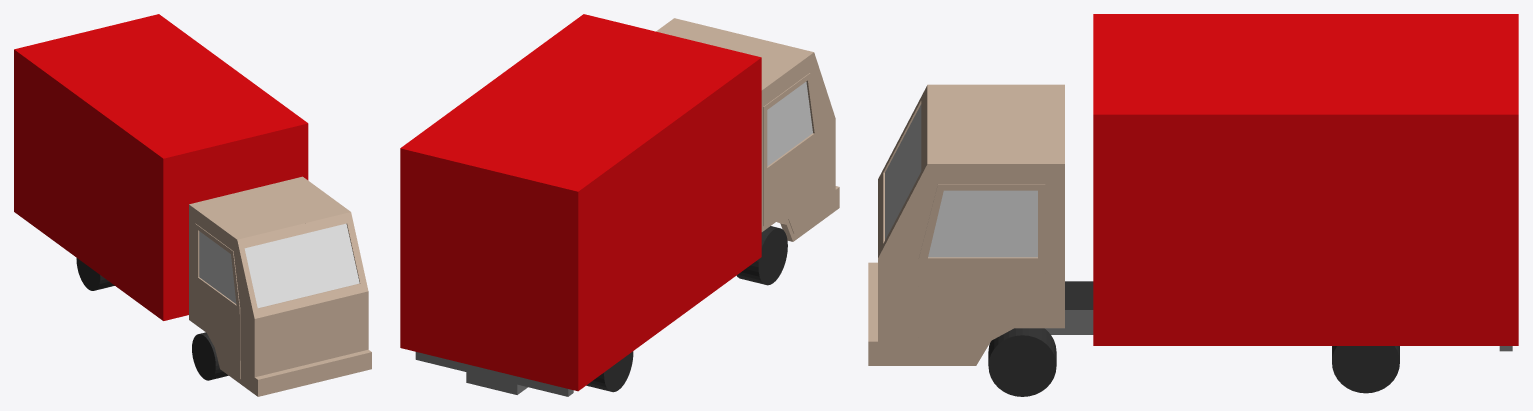
Rendered from truck_model.fbx.
The picture shows the model from 3 angles, left to right: view 1: azimuth 30°, elevation 25°; view 2: azimuth 150°, elevation 25°; view 3: azimuth 270°, elevation 25°; orthographic projection. The views are drawn at different scales.
Visible parts, largest first — view 1: truck_body, cabindoor_right, wheel_front_left, wheel_back_right; view 2: truck_body, backdoor_left, backdoor_right, cabindoor_right, wheel_front_left, wheel_back_right; view 3: truck_body, cabindoor_left, wheel_front_right, wheel_back_left.
Boxes of the visible parts, x1,y1,x2,y2 form: truck_body: (14, 14, 371, 396); cabindoor_right: (195, 223, 240, 378); wheel_front_left: (192, 332, 228, 380); wheel_back_right: (76, 258, 114, 290); truck_body: (400, 14, 839, 396); backdoor_left: (413, 165, 489, 356); backdoor_right: (489, 183, 565, 374); cabindoor_right: (763, 73, 818, 233); wheel_front_left: (736, 226, 787, 285); wheel_back_right: (586, 351, 633, 392); truck_body: (868, 14, 1518, 365); cabindoor_left: (918, 184, 1045, 357); wheel_front_right: (988, 328, 1056, 396); wheel_back_left: (1332, 346, 1399, 393).
Bounding box in the file's own units: 2.8 × 3.8 × 7.65.
